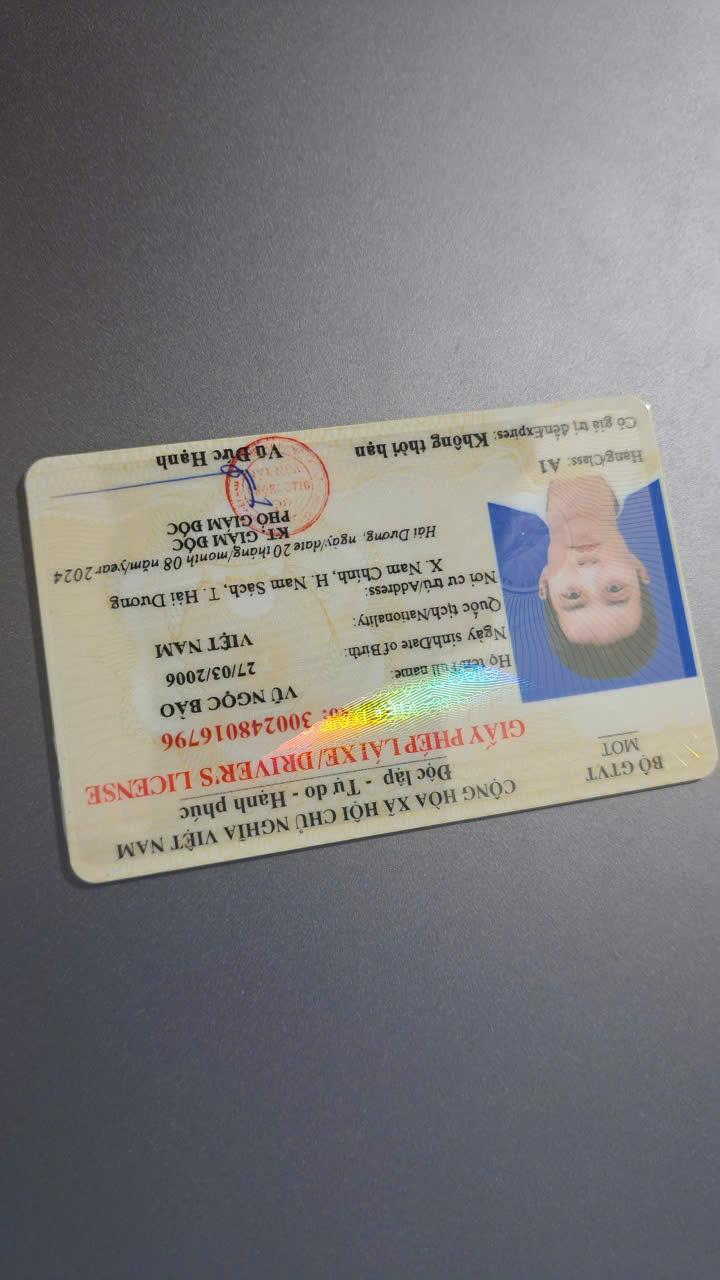gplx: (4, 391, 719, 896)
